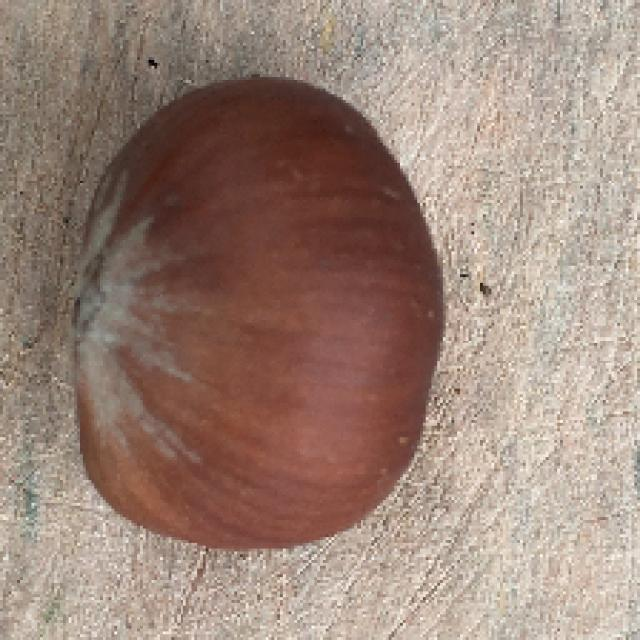DamagedHazelnut: (75, 78, 449, 543)
